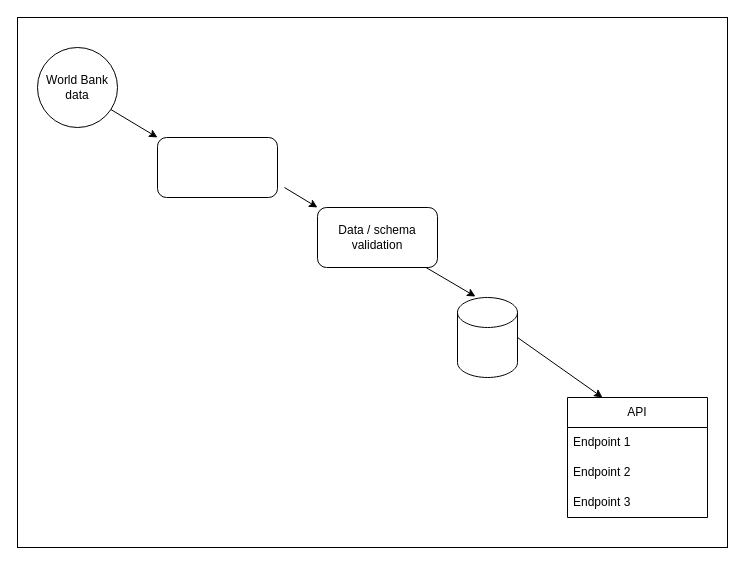
Image size: 745x565. Some labels were removed from this diagram. Each missing label, with the box of its shape:
Data cleansing: (156, 136, 278, 198)
Relational database: (456, 296, 518, 378)
